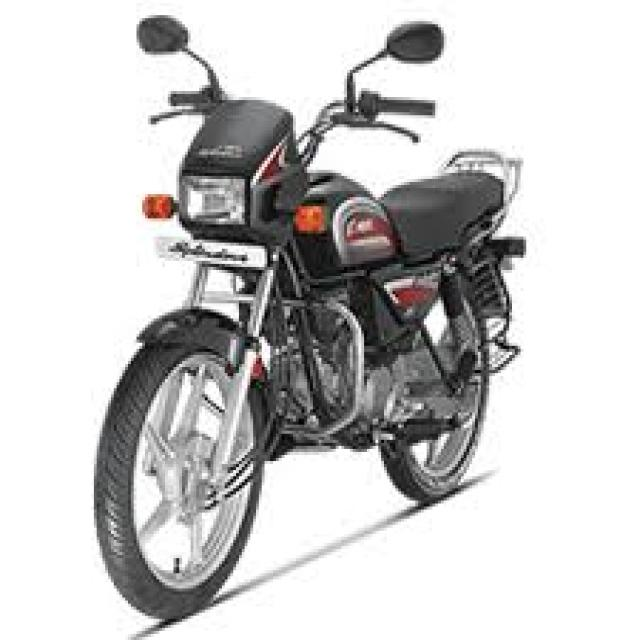Bike: (93, 16, 526, 621)
